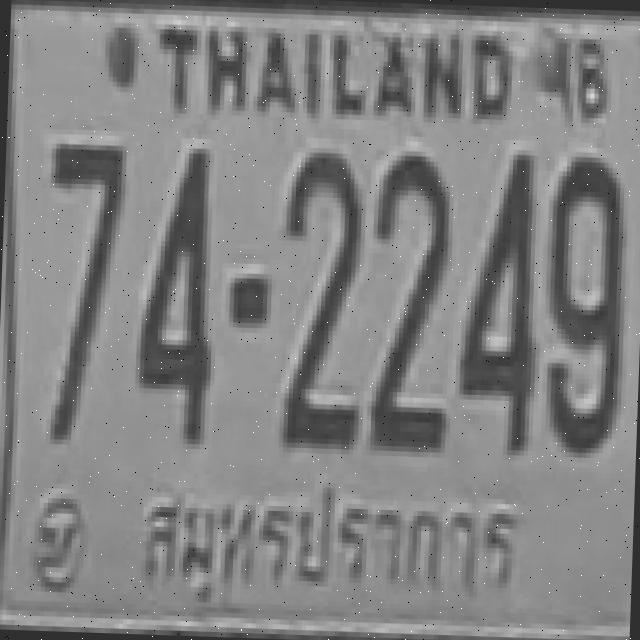2: (370, 152, 452, 391), (366, 228, 452, 448), (278, 220, 361, 444)
4: (453, 147, 538, 450), (133, 142, 214, 440), (454, 148, 538, 396), (133, 139, 216, 368)
7: (45, 140, 122, 334), (46, 138, 122, 313)
9: (540, 160, 625, 448), (540, 220, 623, 448)
SamutPrakan: (125, 477, 530, 625)
